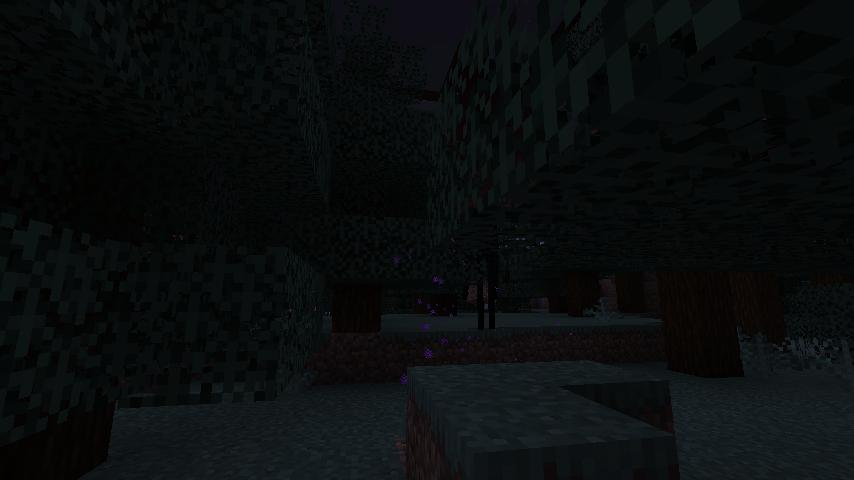enderman: (464, 242, 502, 331)
